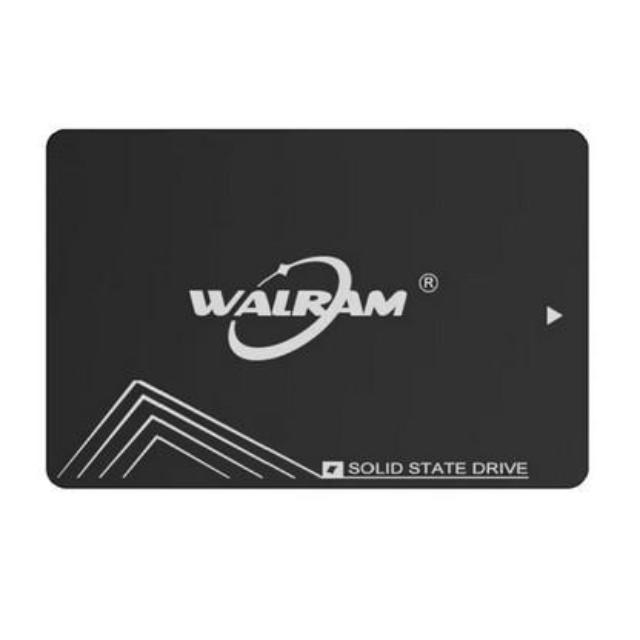DISK: (38, 121, 592, 492)
